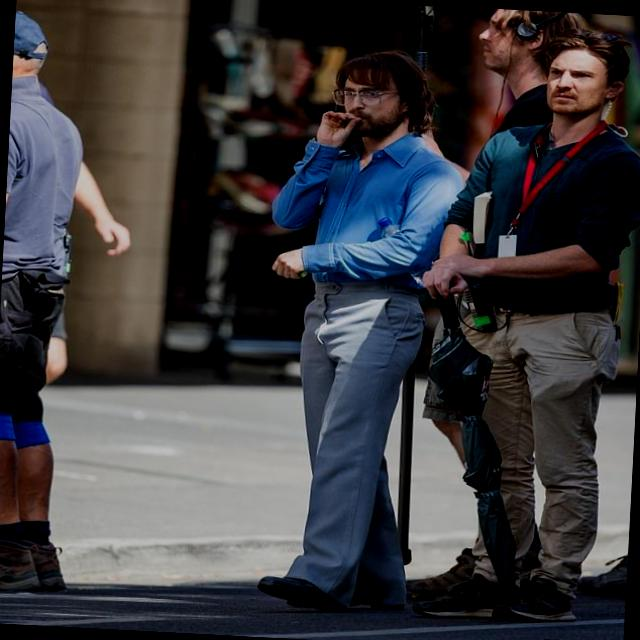smoke: (336, 106, 368, 125)
